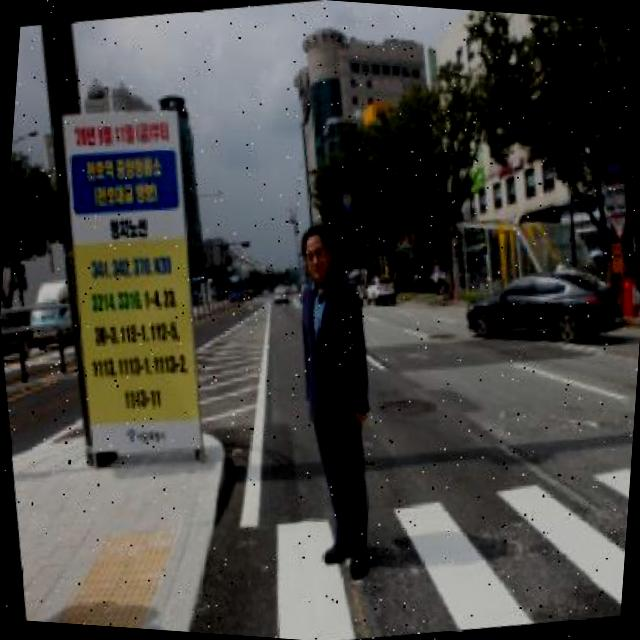Person: (270, 218, 408, 585)
